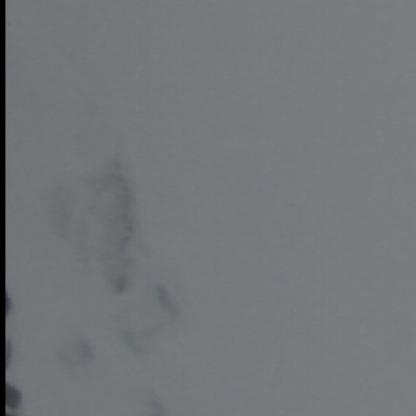polar-bear: (70, 165, 130, 296)
